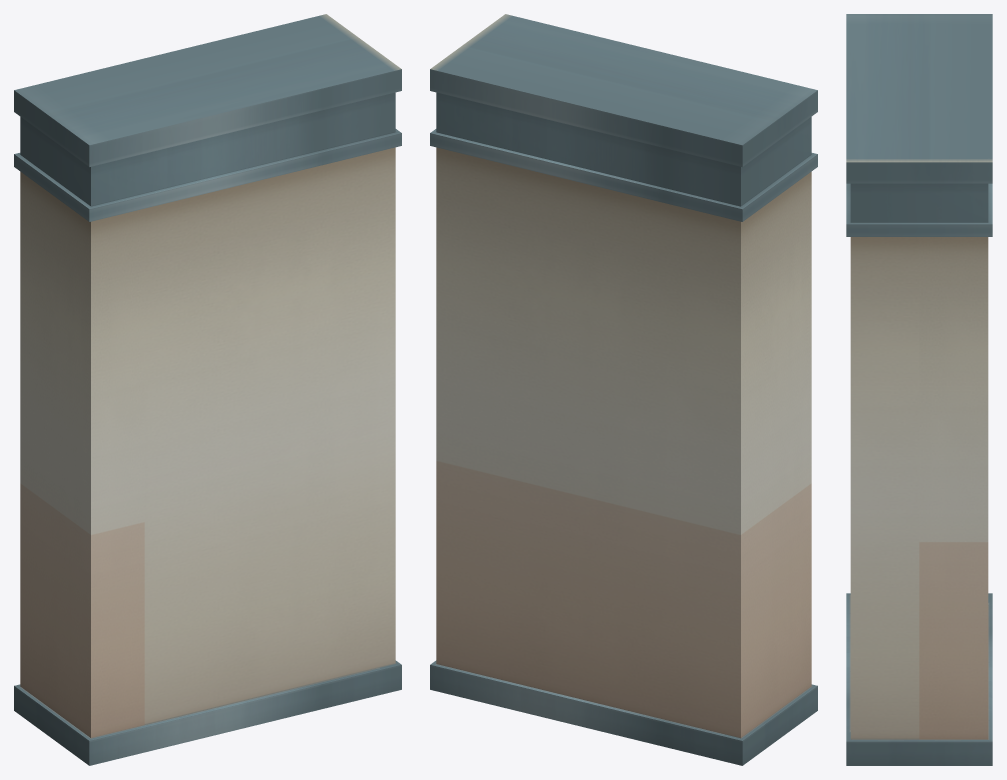
File: SHW_Pillar_01_12.fbx
3 renders of one model, left to right at view 1: azimuth 30°, elevation 25°; view 2: azimuth 150°, elevation 25°; view 3: azimuth 270°, elevation 25°, orthographic. The views are drawn at different scales.
Parts seen in each view (by area): view 1: shw_pillar_01_12; view 2: shw_pillar_01_12; view 3: shw_pillar_01_12.
Boxes of the visible parts, x1=… form: shw_pillar_01_12: x1=14, y1=14, x2=401, y2=765; shw_pillar_01_12: x1=430, y1=14, x2=817, y2=765; shw_pillar_01_12: x1=846, y1=14, x2=992, y2=765.
Size of the model in its own units: 158 by 300 by 66.
